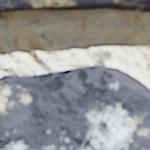broken_brick: (0, 64, 149, 149), (0, 0, 134, 13), (33, 0, 149, 12)
crack: (2, 0, 147, 11)
